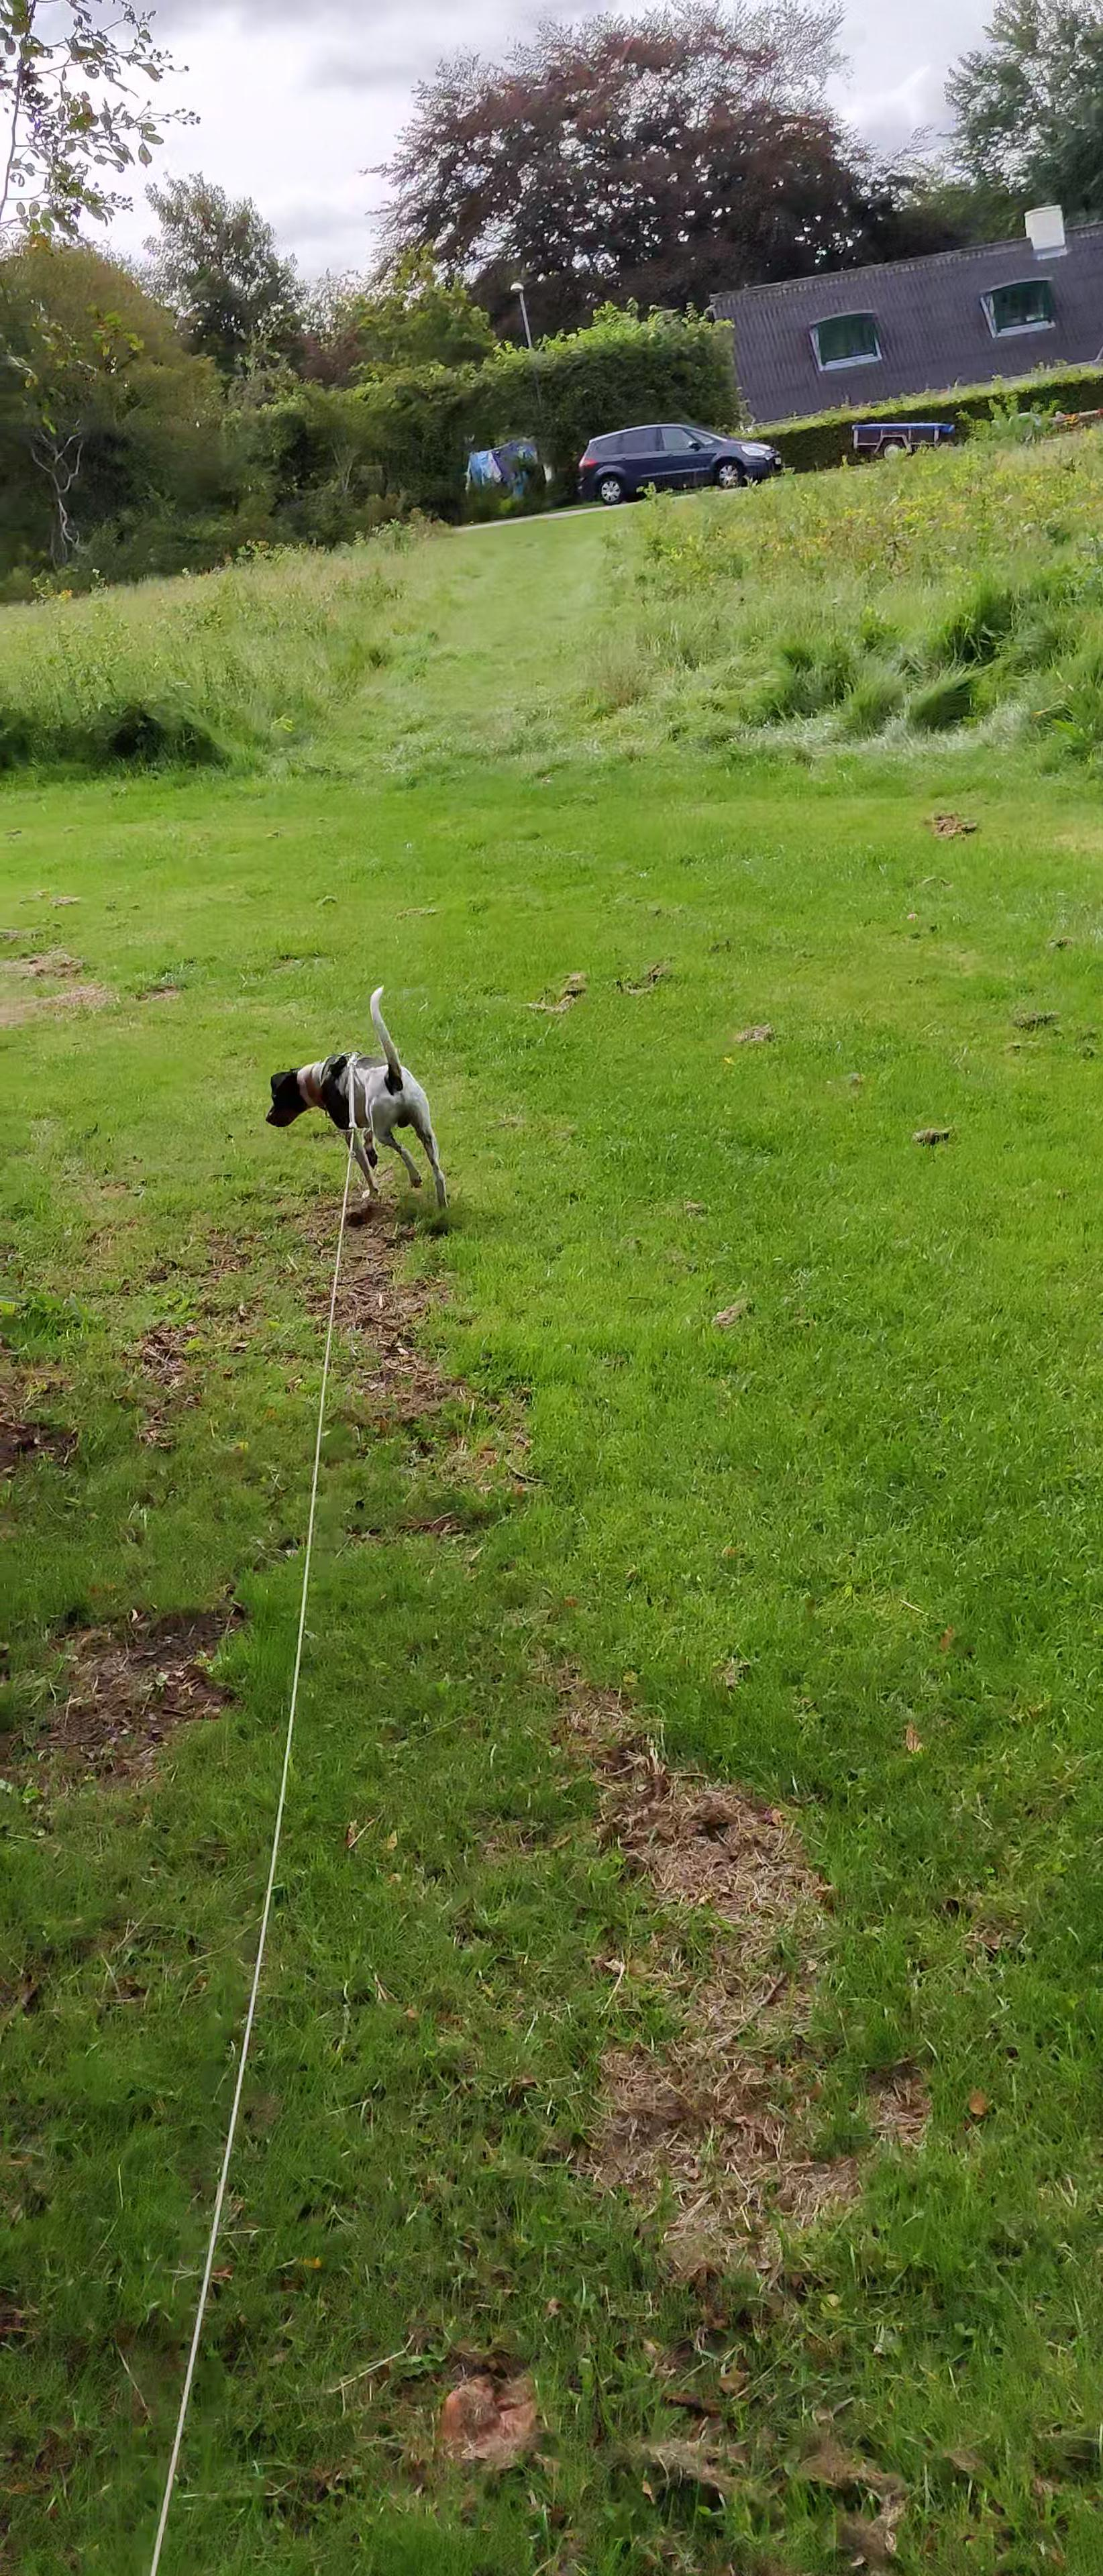Dog: (261, 977, 457, 1230)
